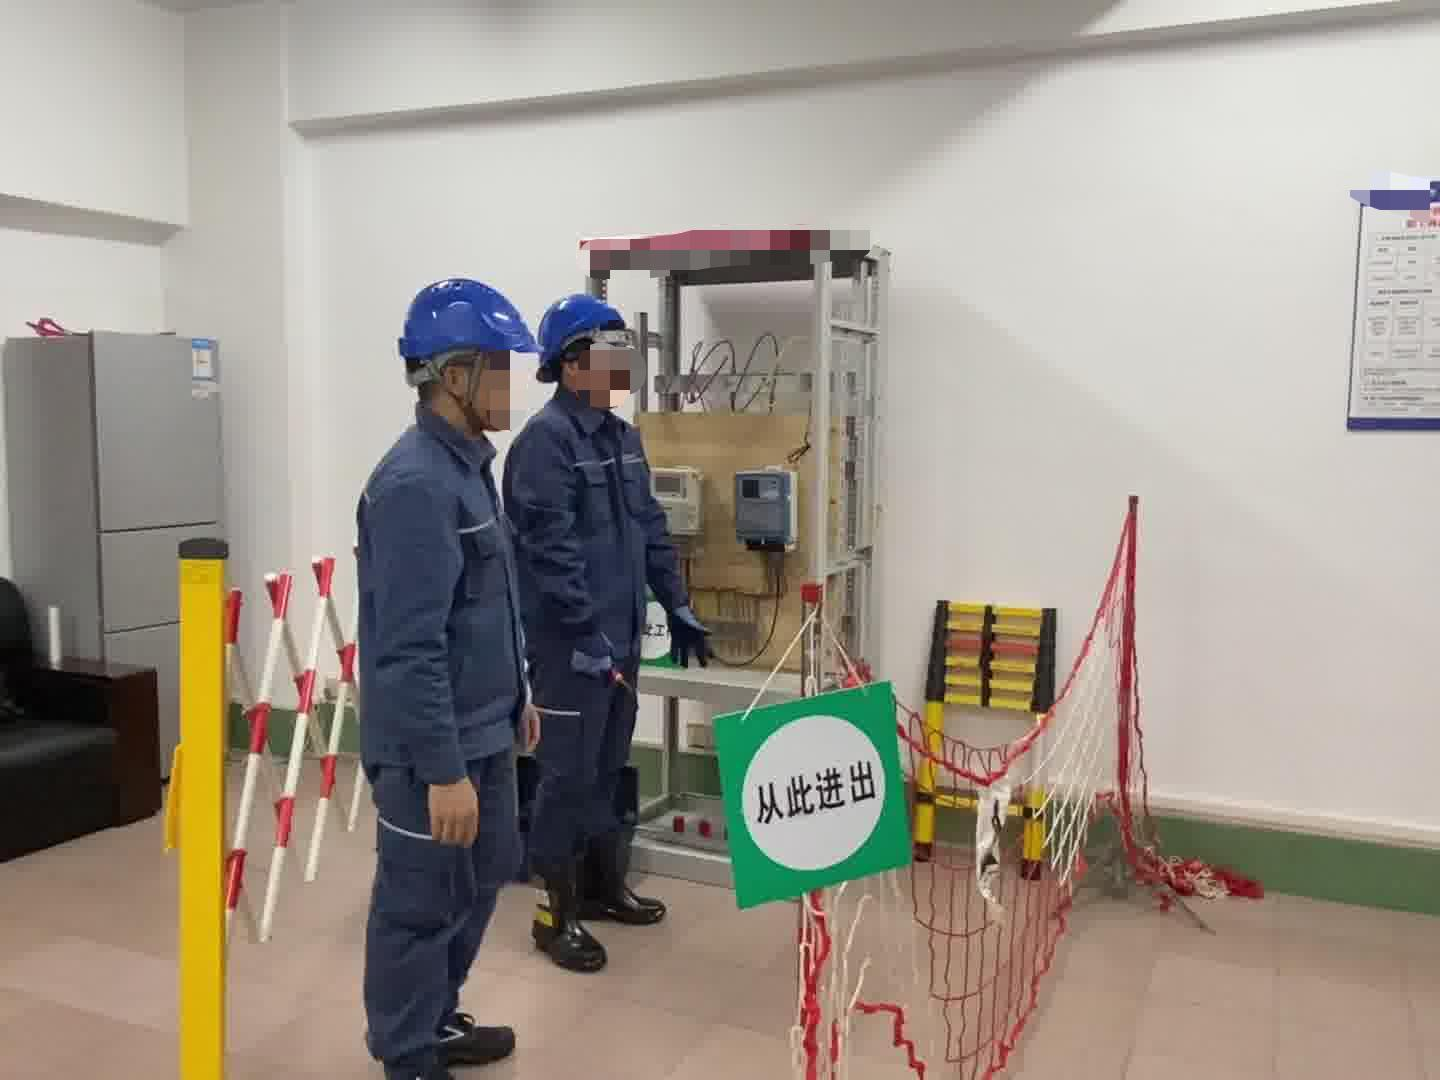halt: (397, 279, 537, 436), (537, 293, 642, 407)
inear: (429, 352, 489, 416)
noear: (558, 351, 604, 397)
